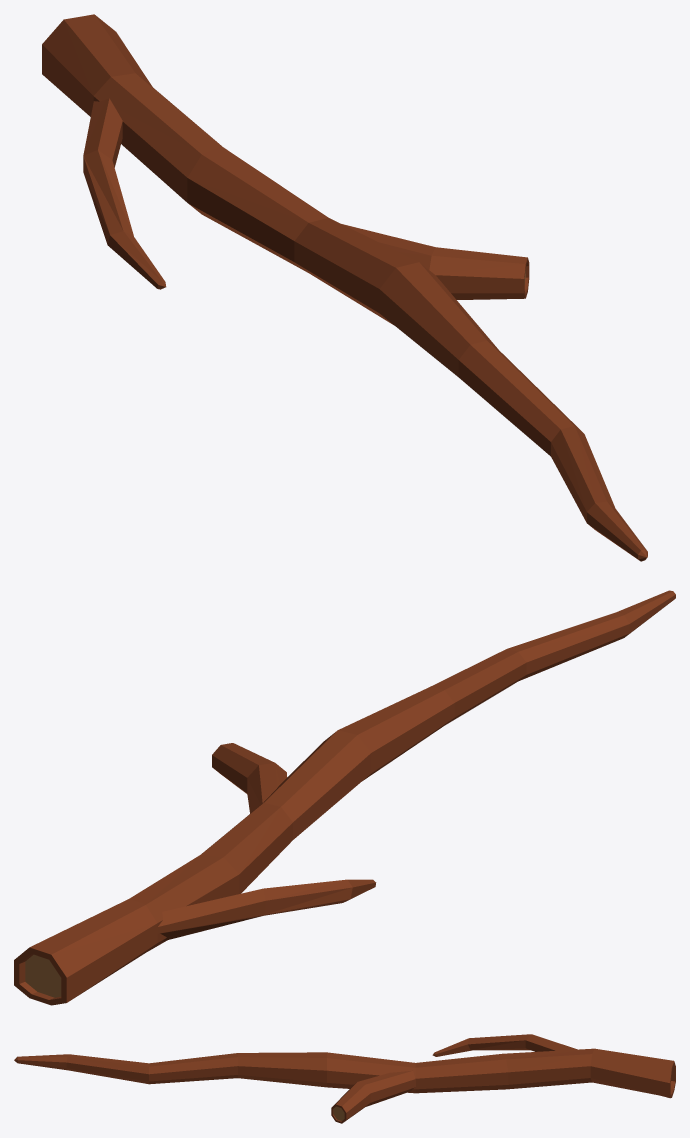
File: Log_3.fbx
3 views of the same model, one above another, from view 1: azimuth 30°, elevation 25°; view 2: azimuth 150°, elevation 25°; view 3: azimuth 270°, elevation 25° (orthographic). The views are drawn at different scales.
Visible parts, largest first — view 1: Log.3; view 2: Log.3; view 3: Log.3.
Boxes of the visible parts, <box> form: Log.3: <box>42,14,647,561</box>; Log.3: <box>14,590,675,1005</box>; Log.3: <box>14,1034,675,1123</box>.
Size of the model in its own units: 76.27 by 17.79 by 298.
